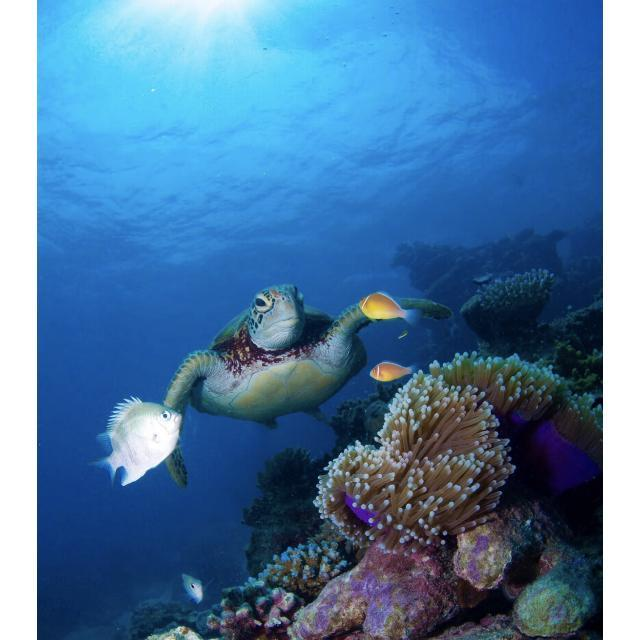turtle: (161, 284, 446, 489)
